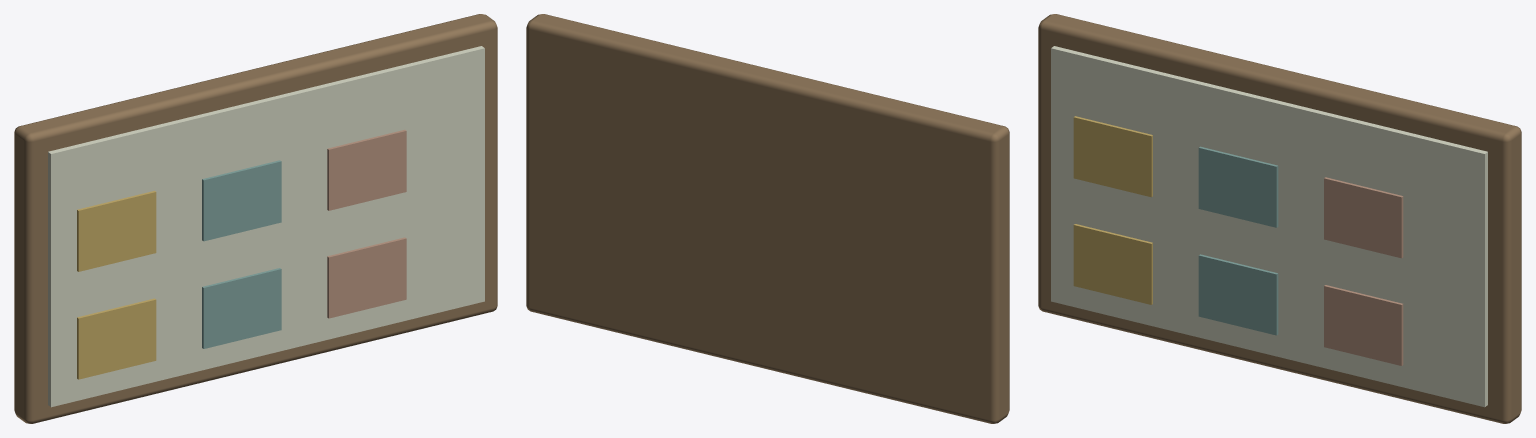
File: board.glb
3 views of the same model, side by side, from view 1: azimuth 30°, elevation 25°; view 2: azimuth 150°, elevation 25°; view 3: azimuth 330°, elevation 25° (orthographic).
Size of the model in its own units: 1.7 by 1 by 0.14.
